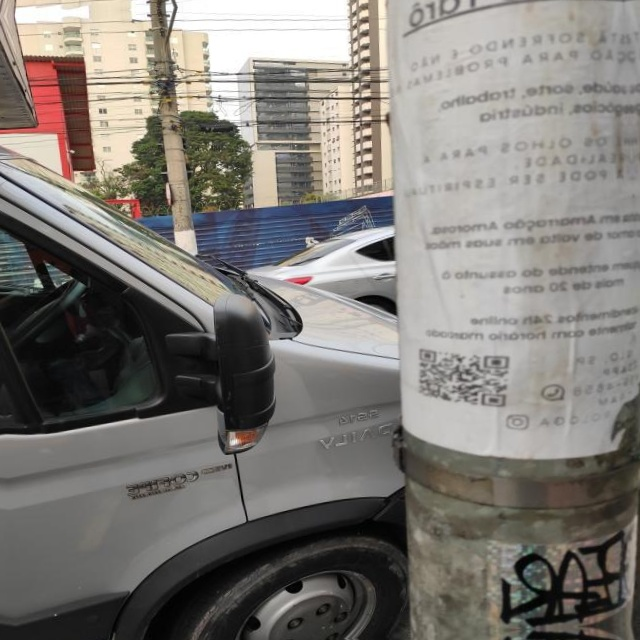qr-code: (417, 345, 513, 411)
